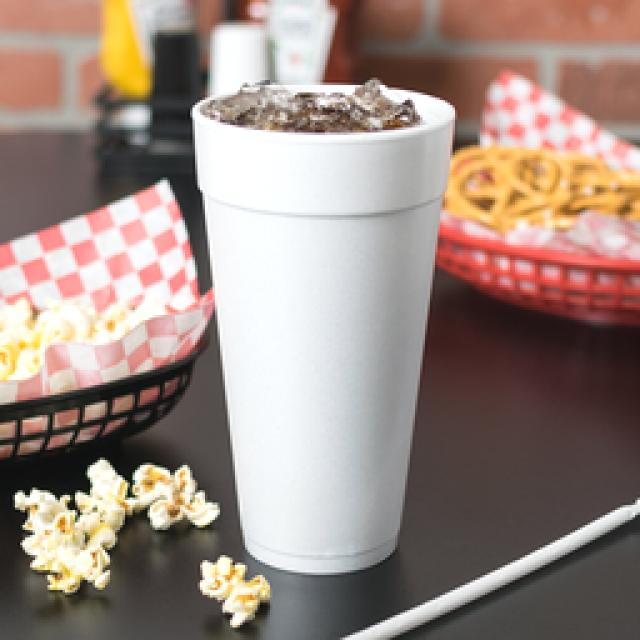inorganic: (200, 108, 449, 572)
